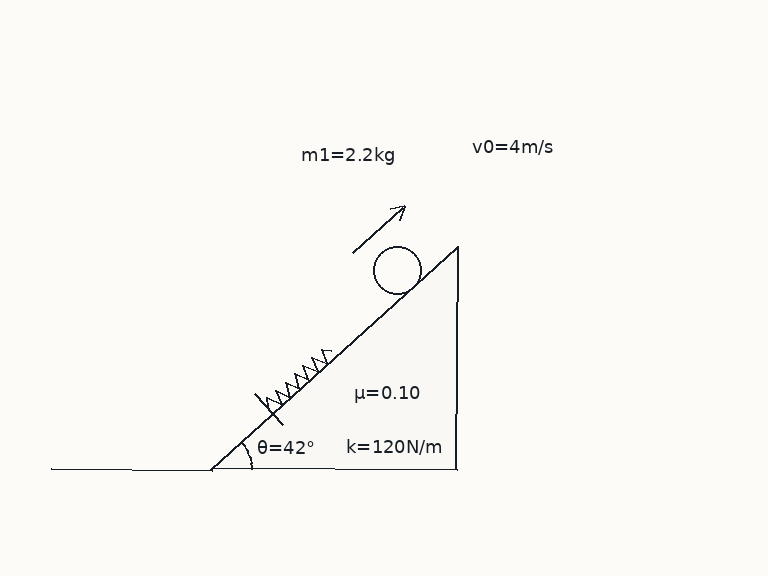ball: (371, 244, 423, 296)
ramp: (210, 246, 459, 471)
spring: (265, 347, 333, 409)
